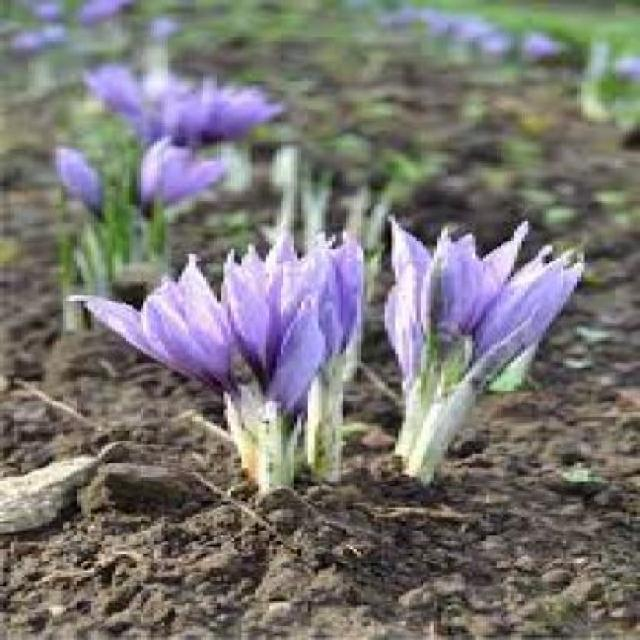saffron closed: (468, 259, 580, 391), (55, 148, 102, 211)
saffron open: (85, 255, 234, 391)
